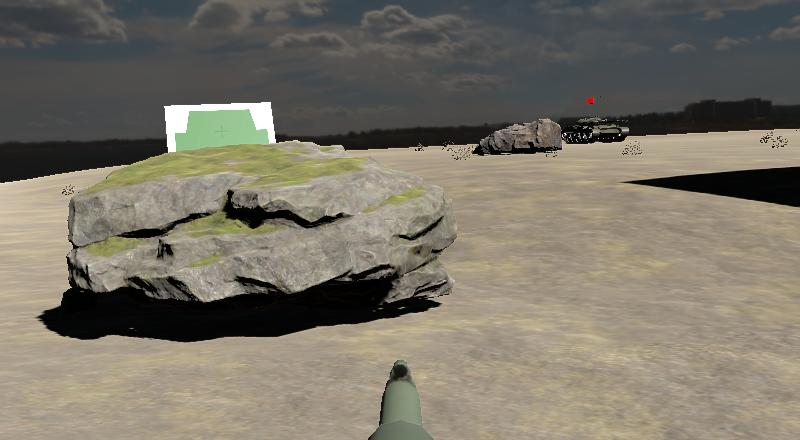Tank: (557, 112, 633, 149)
